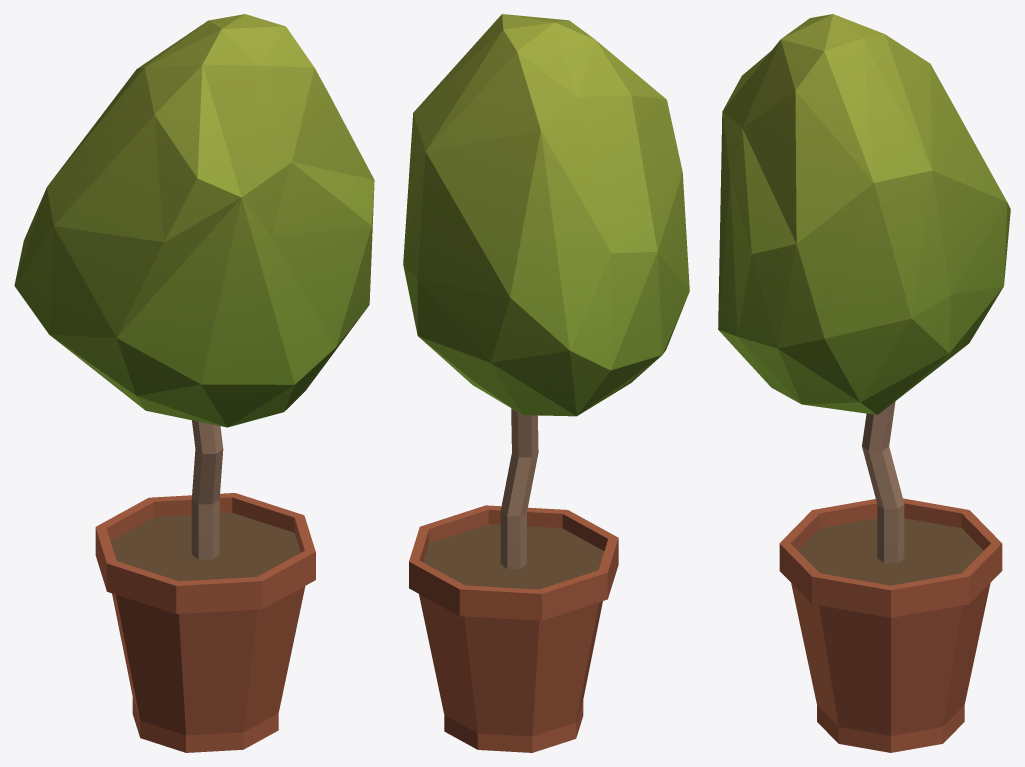
Rendered from Pot_05.fbx.
3 views of the same model, side by side, from view 1: azimuth 30°, elevation 25°; view 2: azimuth 150°, elevation 25°; view 3: azimuth 270°, elevation 25° (orthographic). The views are drawn at different scales.
Visible parts, largest first — view 1: Pot_05; view 2: Pot_05; view 3: Pot_05.
Part boxes in pixels (x1,y1,x2,y2): Pot_05: [14, 14, 374, 752]; Pot_05: [403, 14, 689, 752]; Pot_05: [718, 14, 1010, 752].
Bounding box in the file's own units: 55.7 × 135 × 50.98.
